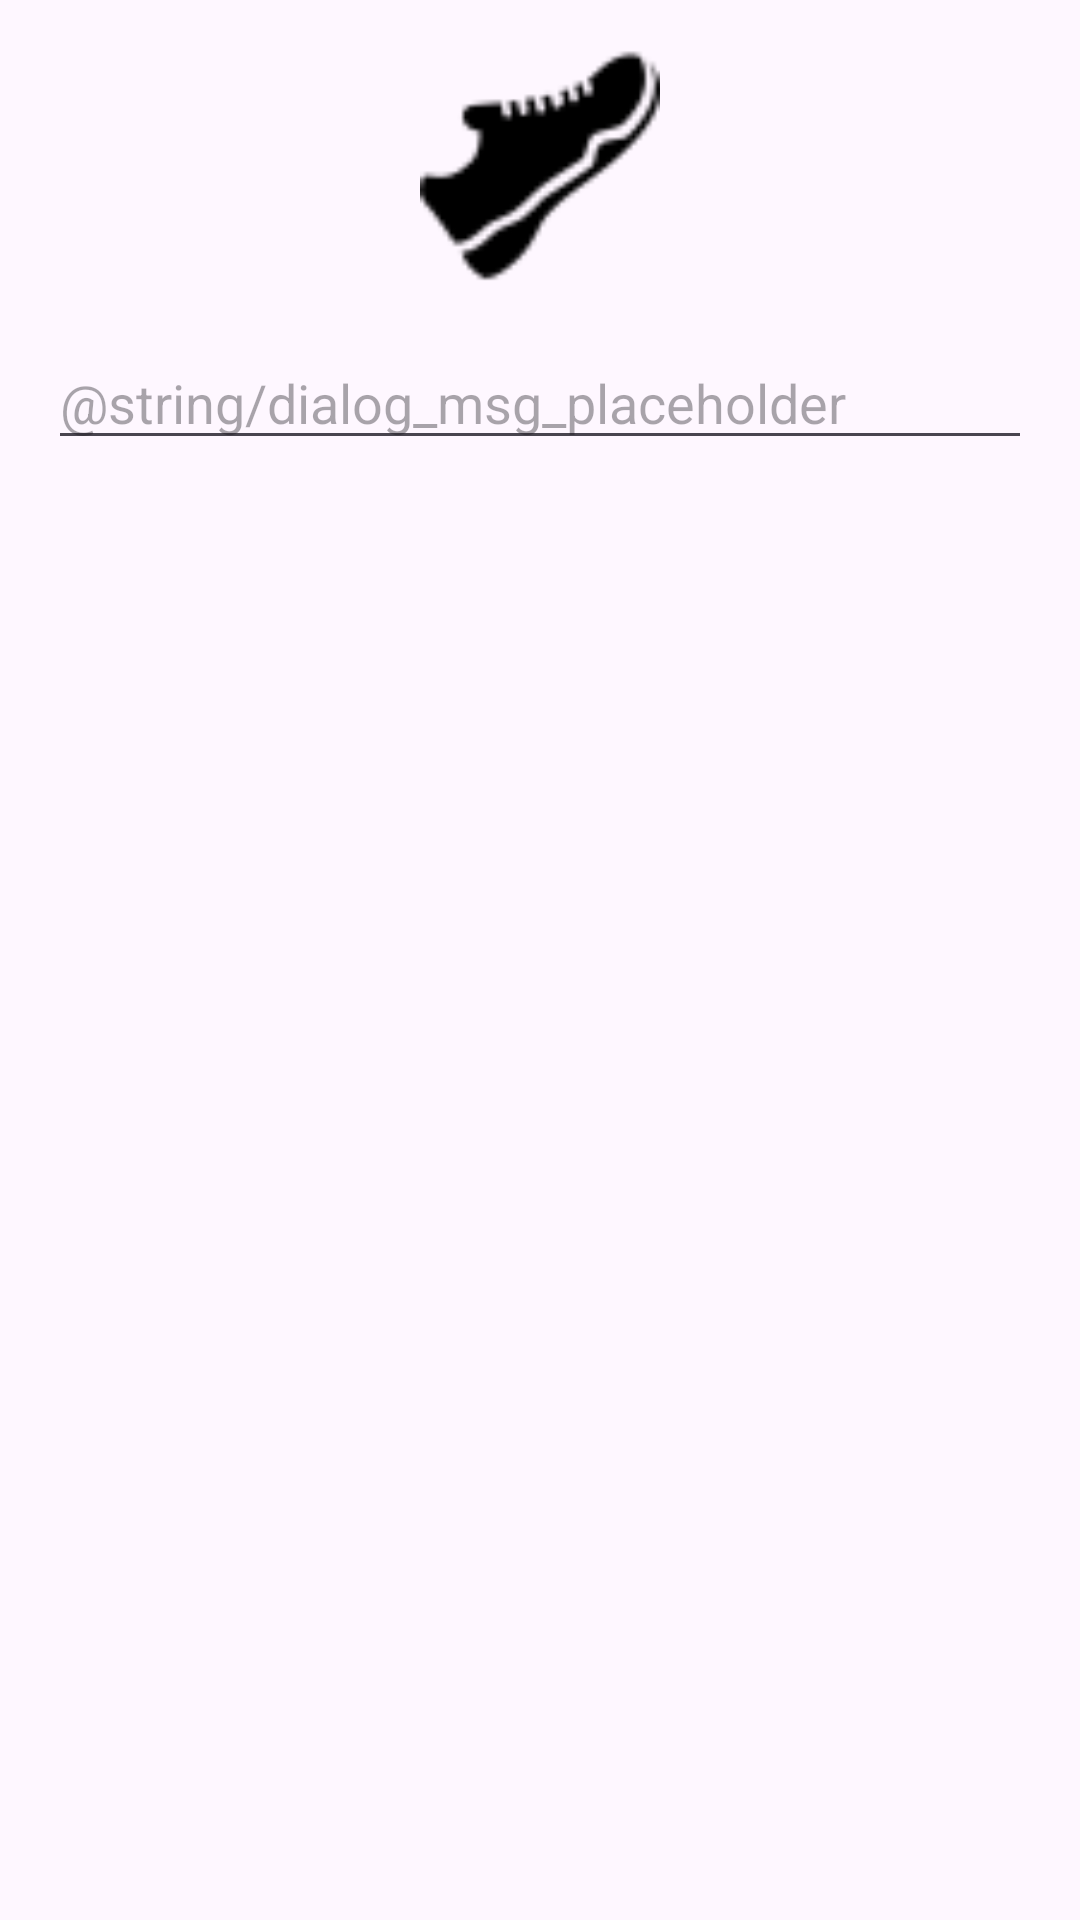

Where icons sit on this 1080w x 1920h app screen, as (x1, y1, x2, y2):
trainers: (420, 51, 660, 280)
